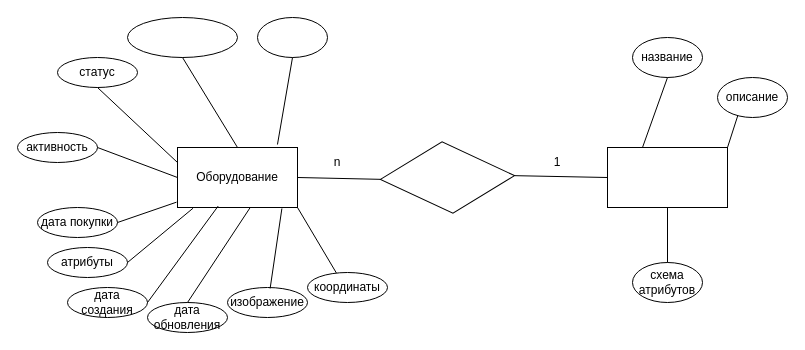
Image size: 805x350. Some labels were removed from this diagram. The centre of each missing label's shape, as x and y in pixels:
"инвентарный номер" goes at point 182,37.
"кабинет" goes at point 292,37.
"Принадлежит" goes at point 447,177.
"Тип" goes at point 667,177.
